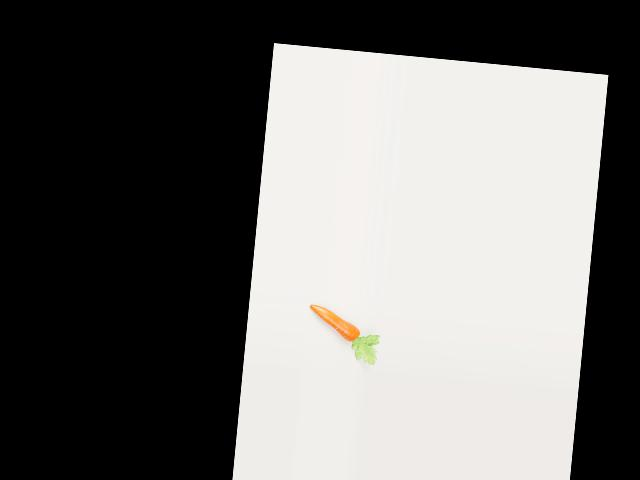carrot: (303, 302, 369, 348)
